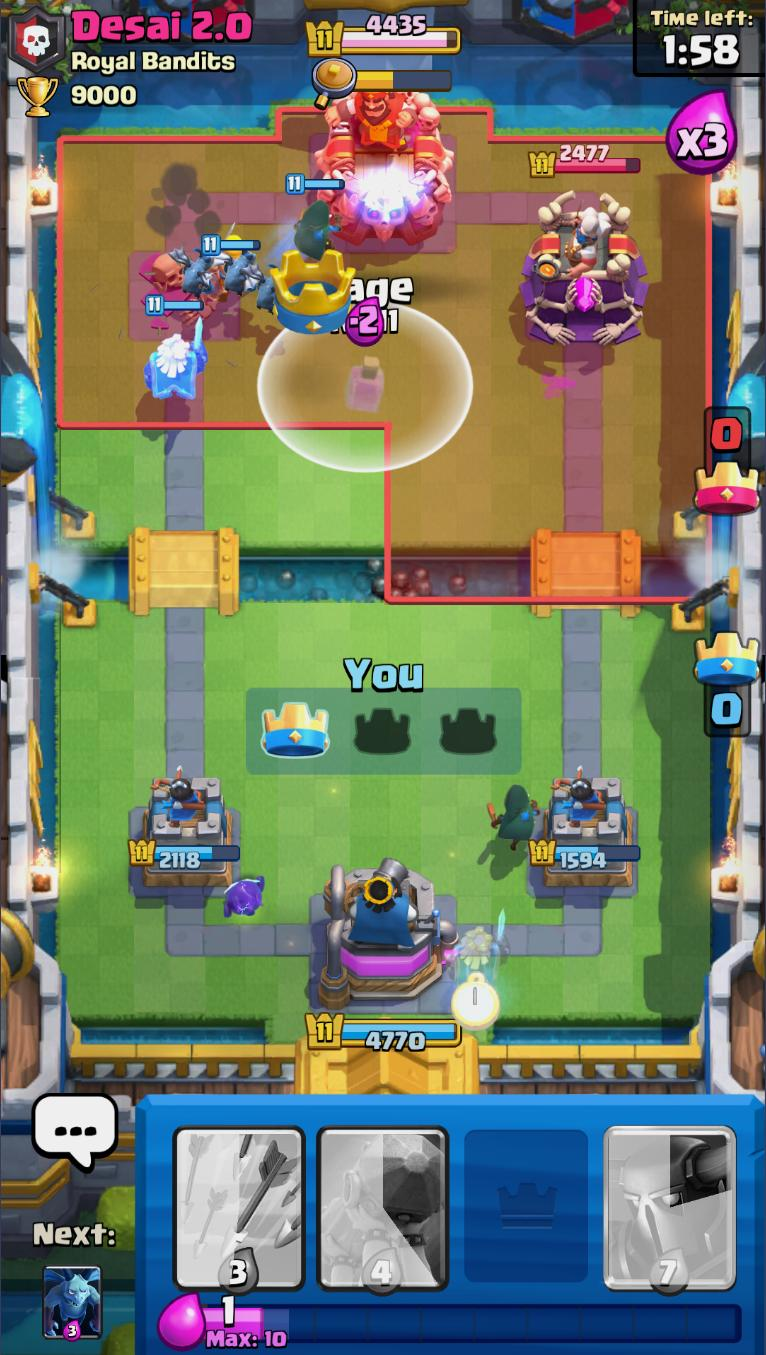ArrowDeck: (173, 1095, 326, 1296)
BattleRamDeck: (326, 1095, 455, 1299)
Chef: (552, 199, 618, 273)
Elixir: (203, 1293, 748, 1351)
Empty: (450, 1096, 604, 1298)
EnemyTower: (516, 186, 651, 346)
EnemyTowerBrocken: (128, 244, 242, 344)
EnemyTowerBrockenCrown: (264, 241, 360, 338)
KingTower: (310, 85, 456, 241)
KingTowerHP: (302, 14, 463, 56)
MinionsNext: (38, 1260, 105, 1341)
MyBandit: (282, 171, 345, 258), (488, 784, 538, 855)
MyBarbarian: (214, 225, 248, 262)
MyElectroSpirit: (220, 874, 268, 921)
MyKingHP: (301, 1006, 463, 1053)
MyKingTower: (315, 856, 460, 1008)
MyMinion: (169, 240, 219, 301), (218, 248, 266, 299), (252, 261, 282, 311)
MyPrincessTower: (126, 766, 238, 891), (539, 771, 638, 889)
MyPrincessTowerHP: (525, 832, 642, 870), (126, 835, 243, 868)
MyRoyaleGhost: (141, 294, 209, 404), (449, 909, 511, 991)
PekkaDeck: (599, 1098, 744, 1296)
TowerPrincessHP: (528, 141, 641, 178)
